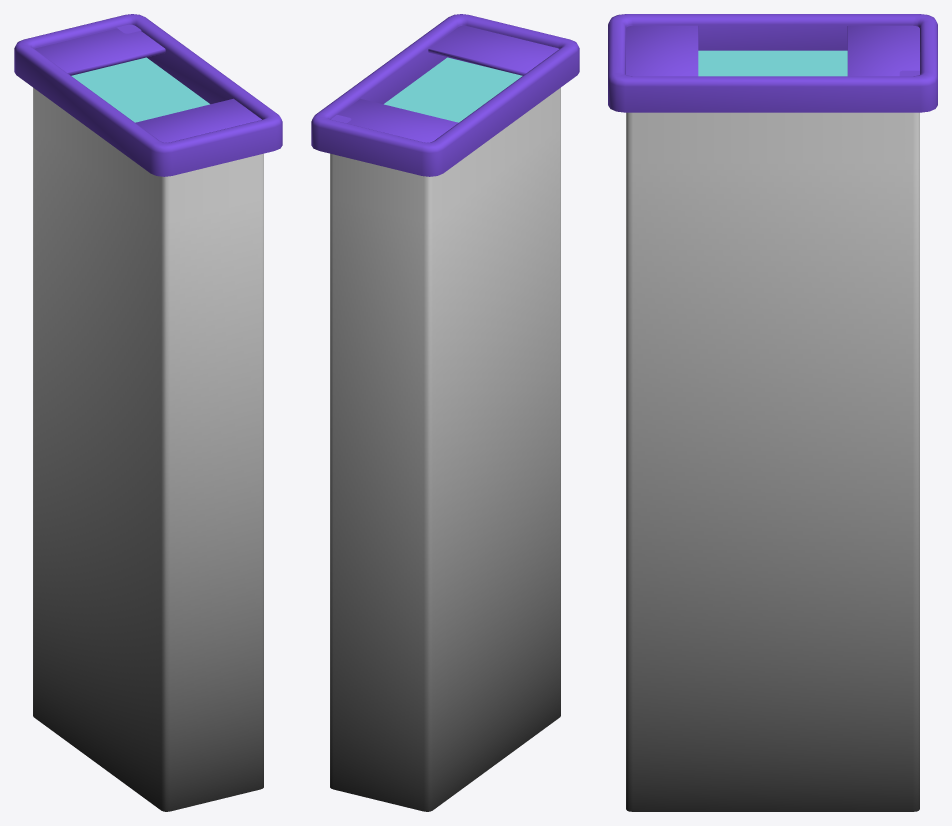
3 renders of one model, left to right at view 1: azimuth 30°, elevation 25°; view 2: azimuth 150°, elevation 25°; view 3: azimuth 270°, elevation 25°, orthographic. The views are drawn at different scales.
Parts seen in each view (by area): view 1: 1x2, 1x2_Cap, 1x2_Stencil; view 2: 1x2, 1x2_Cap, 1x2_Stencil; view 3: 1x2, 1x2_Cap, 1x2_Stencil.
Part boxes in pixels (box(x1,y1,x2,y2)): 1x2: box(14, 14, 282, 811); 1x2_Cap: box(35, 28, 261, 142); 1x2_Stencil: box(71, 57, 209, 122); 1x2: box(311, 14, 579, 811); 1x2_Cap: box(338, 25, 558, 142); 1x2_Stencil: box(384, 57, 522, 122); 1x2: box(608, 14, 937, 811); 1x2_Cap: box(626, 25, 919, 76); 1x2_Stencil: box(698, 50, 847, 76).
Bounding box in the file's own units: 1 × 4.94 × 2.
3 materials, 1 textured.
